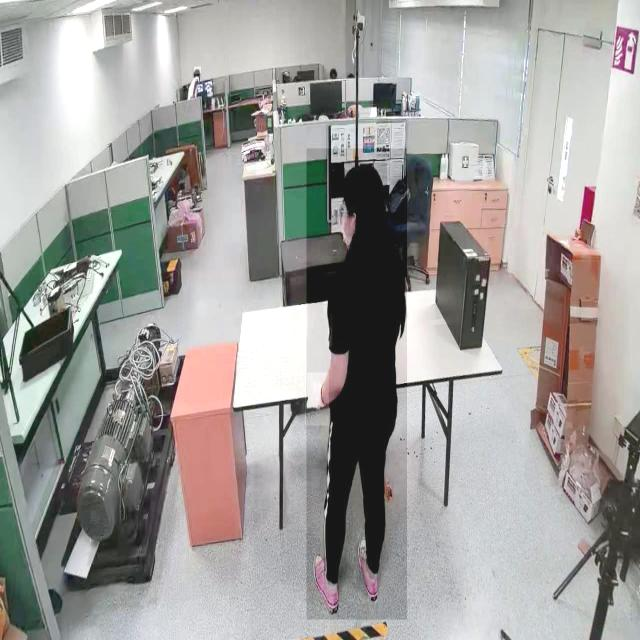hand_glove: (305, 372, 329, 427)
head_nohelmet: (341, 162, 387, 202), (193, 66, 201, 74)
person: (306, 148, 407, 620)
shoes: (312, 548, 344, 616), (359, 538, 380, 600)
